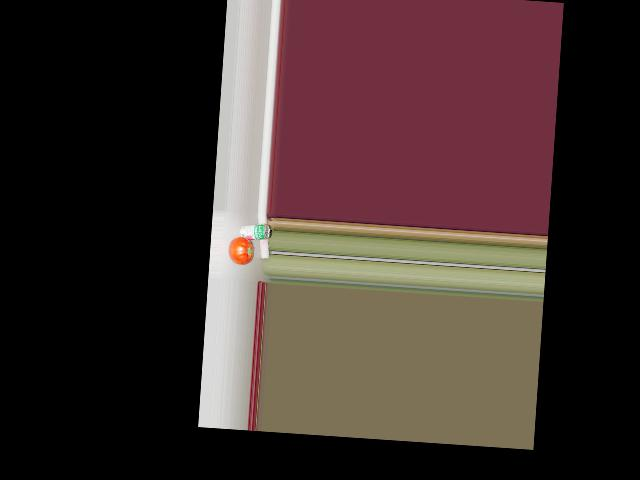tomato: (227, 236, 253, 265)
